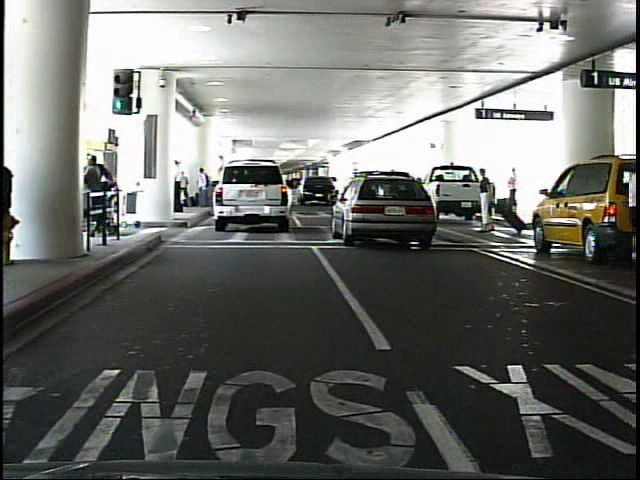person: (621, 156, 640, 262), (2, 148, 15, 266), (478, 166, 499, 234), (509, 166, 523, 217), (177, 157, 187, 216), (199, 167, 213, 209)
